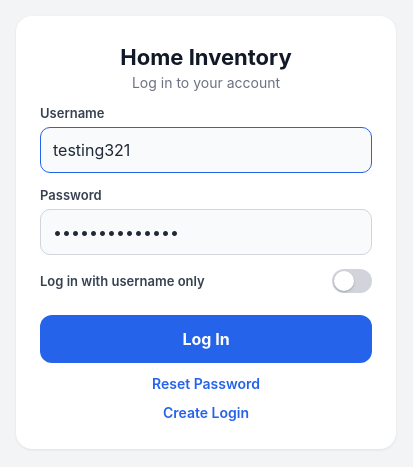
Test: LoginScreen › still requires a password when the switch is off
Clear the password field with placeholder "Password": {"x": 206, "y": 232} [40,208,372,254]
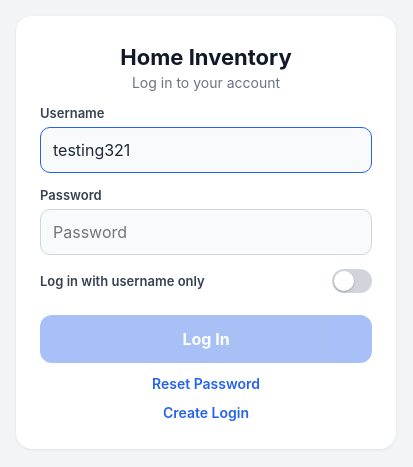
Expected: the button "Log In" is disabled, [40,314,372,362]
